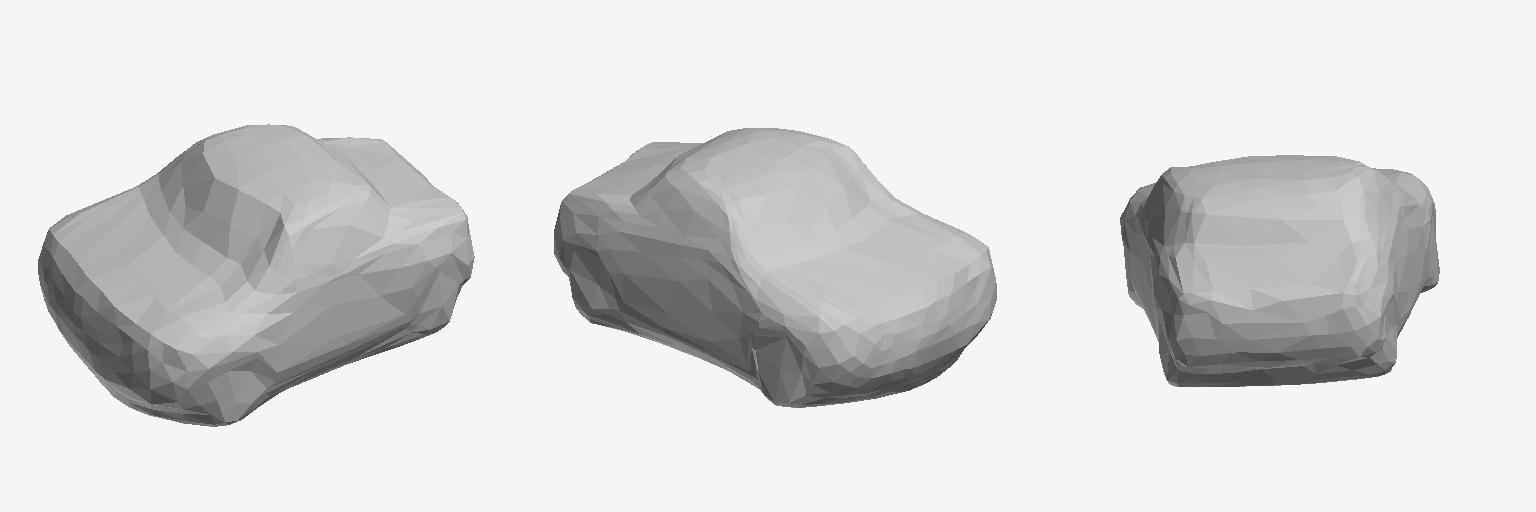
File: video3_397.obj
3 views of the same model, side by side, from view 1: azimuth 30°, elevation 25°; view 2: azimuth 150°, elevation 25°; view 3: azimuth 270°, elevation 25° (orthographic).
Bounding box in the file's own units: 1 × 0.5223 × 0.7777.